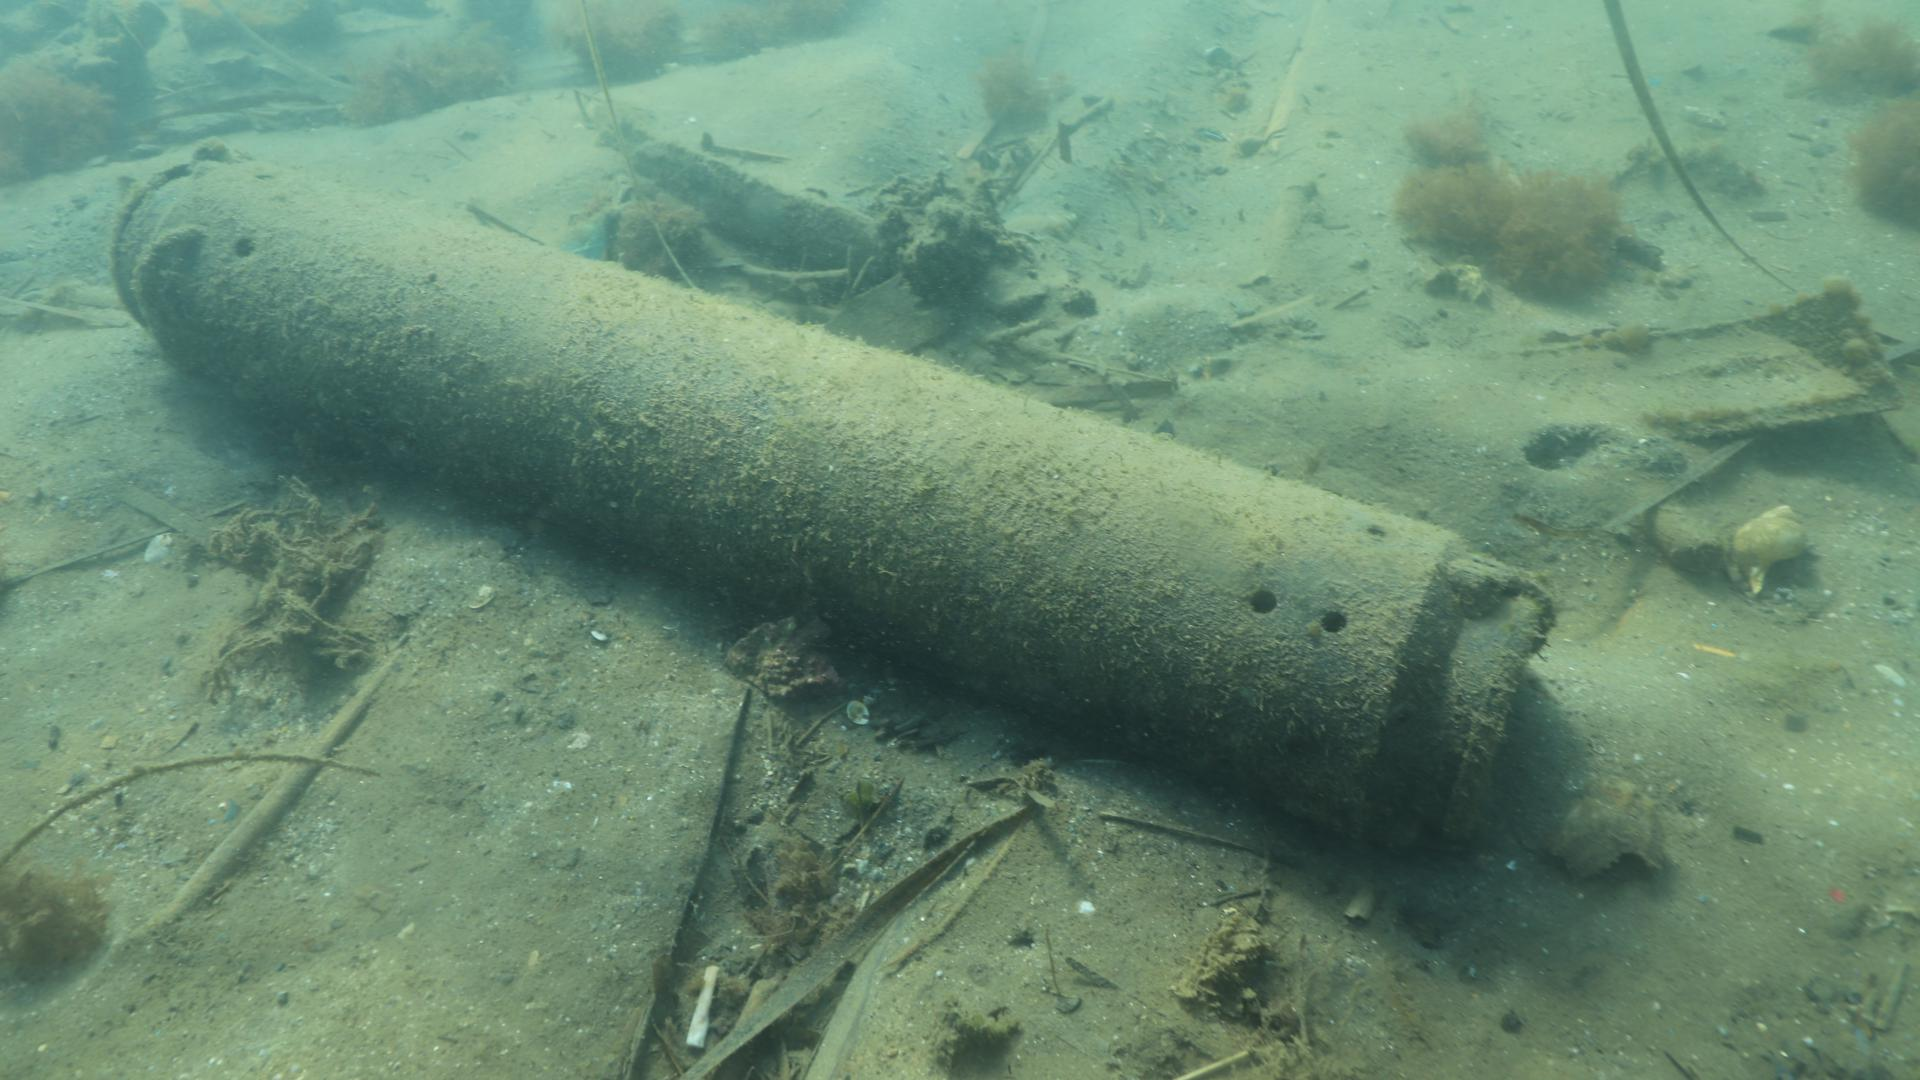eel fish trap: (105, 145, 1551, 862)
